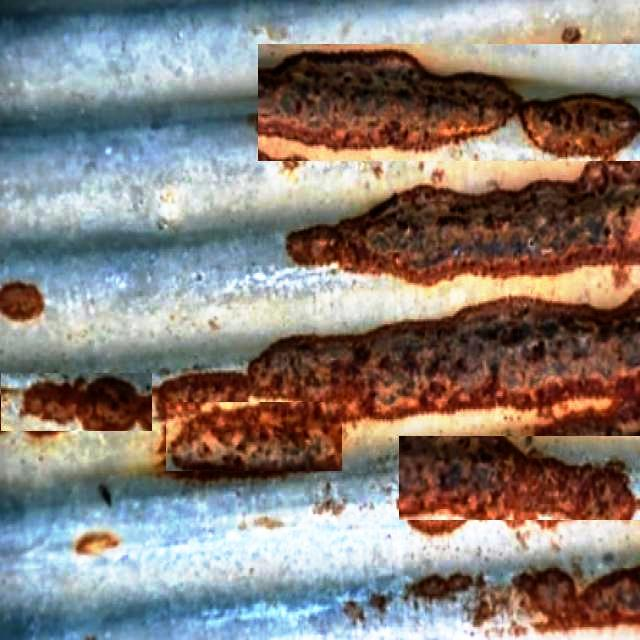Corrosion: (2, 292, 640, 474), (288, 162, 640, 286), (258, 49, 640, 160), (400, 437, 638, 531), (514, 568, 640, 633), (408, 575, 474, 602), (1, 282, 43, 320)
